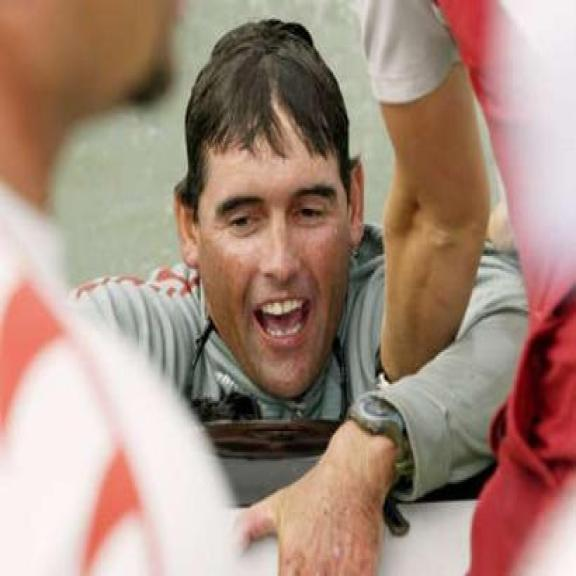face: (166, 125, 370, 396)
